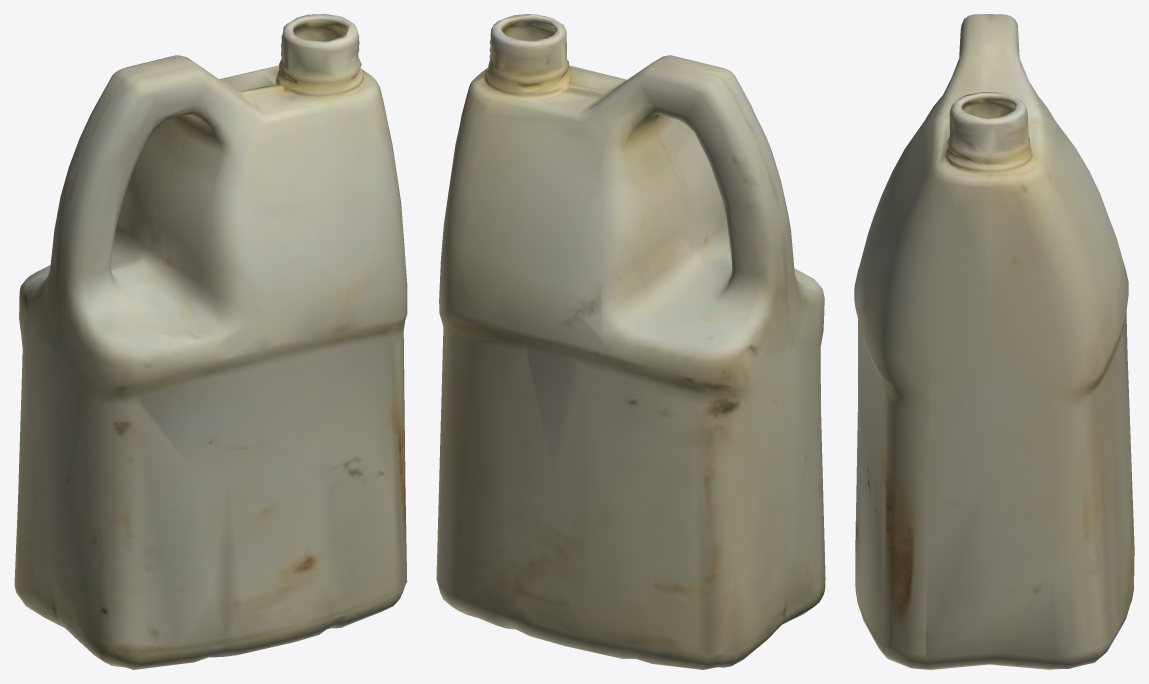
Rendered from plastic_bottle_gallon.glb.
3 renders of one model, left to right at view 1: azimuth 30°, elevation 25°; view 2: azimuth 150°, elevation 25°; view 3: azimuth 270°, elevation 25°, orthographic.
Visible parts, largest first — view 1: plastic_bottle_gallon; view 2: plastic_bottle_gallon; view 3: plastic_bottle_gallon.
Boxes of the visible parts, x1,y1,x2,y2 form: plastic_bottle_gallon: [14, 14, 407, 669]; plastic_bottle_gallon: [436, 14, 825, 669]; plastic_bottle_gallon: [854, 14, 1134, 669].
Size of the model in its own units: 0.1662 by 0.2745 by 0.126.
Materials: 1 (1 with a texture image).
